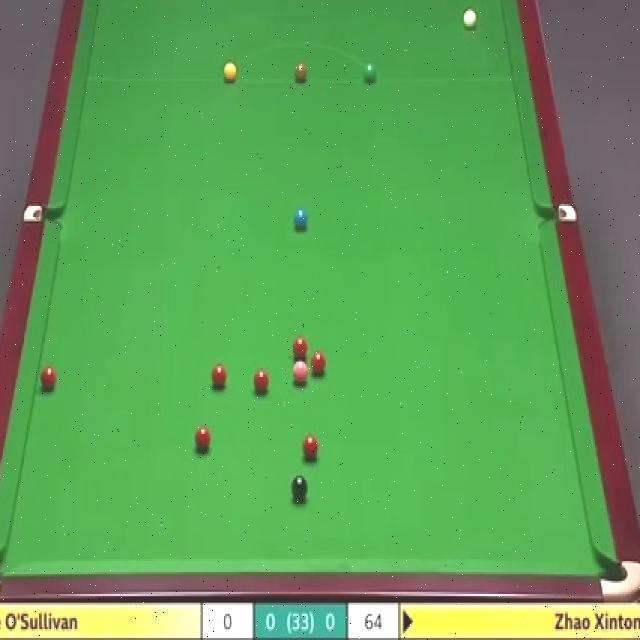black-ball: (291, 473, 308, 502)
blue-ball: (294, 207, 307, 231)
brown-ball: (294, 64, 308, 84)
green-ball: (364, 62, 376, 83)
pink-ball: (288, 359, 306, 387)
red-ball: (250, 367, 270, 395), (210, 362, 228, 391), (194, 425, 211, 455), (310, 350, 327, 378), (301, 434, 318, 462), (41, 364, 58, 390), (290, 336, 309, 359)
white-ball: (462, 4, 478, 30)
yellow-ball: (221, 61, 237, 84)
